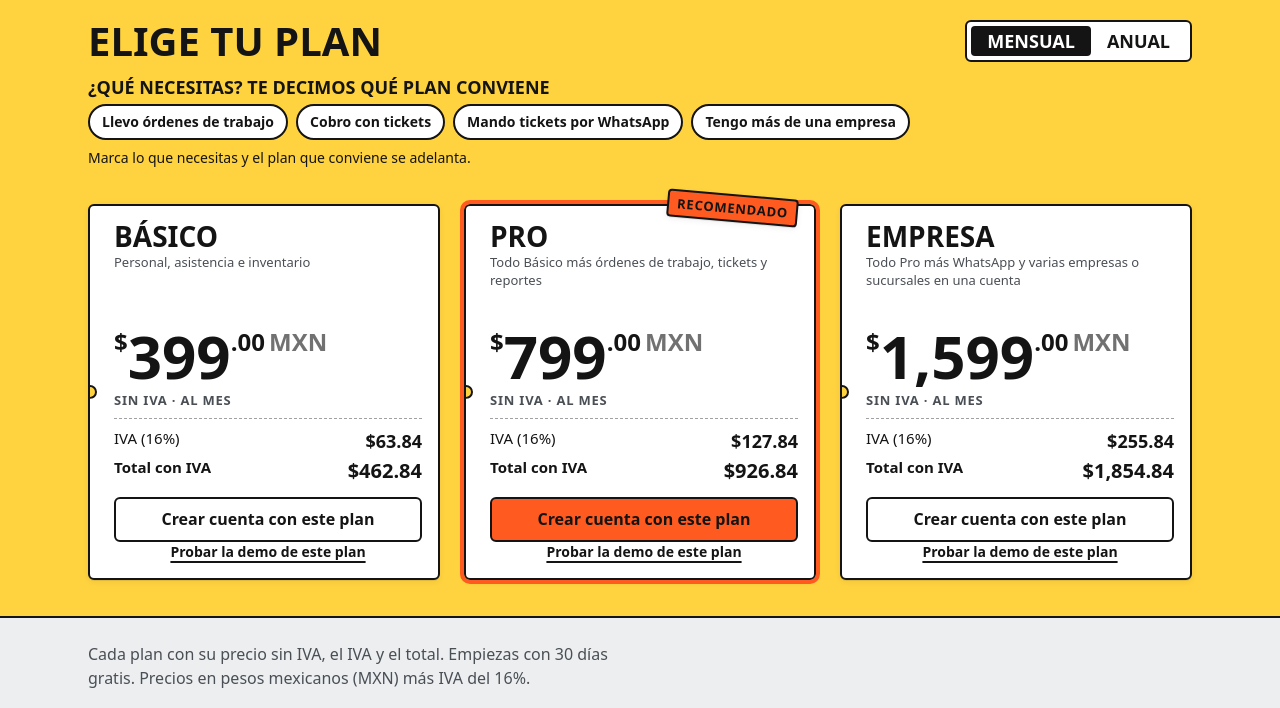
Test case: PricingSection › cambiar a anual cambia los importes y la leyenda de periodo
Click the button "Anual" at (1138, 41), box top-left (1091, 26), bottom-right (1186, 56)
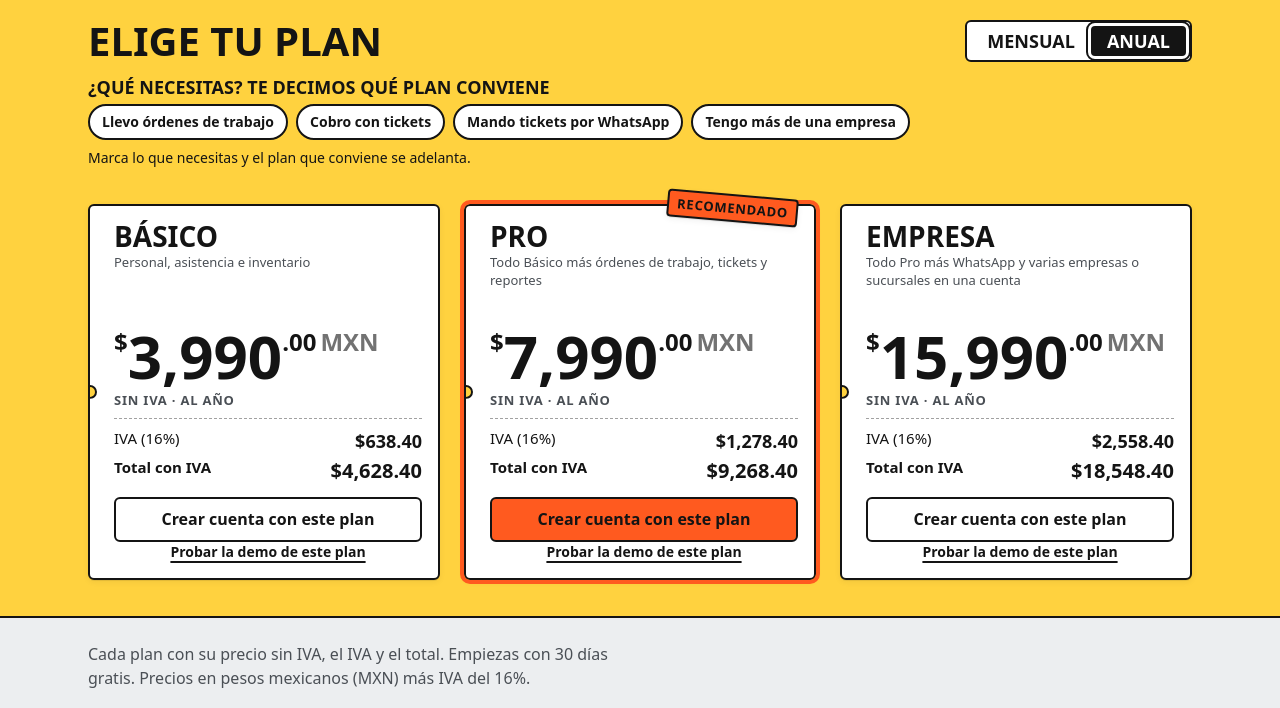
Now the text "$638.40" is shown, box top-left (355, 427), bottom-right (422, 455)
Now the text "$4,628.40" is shown, box top-left (330, 457), bottom-right (422, 485)
Now the text "$462.84" is gone
